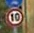limite 10: (6, 8, 24, 26)
